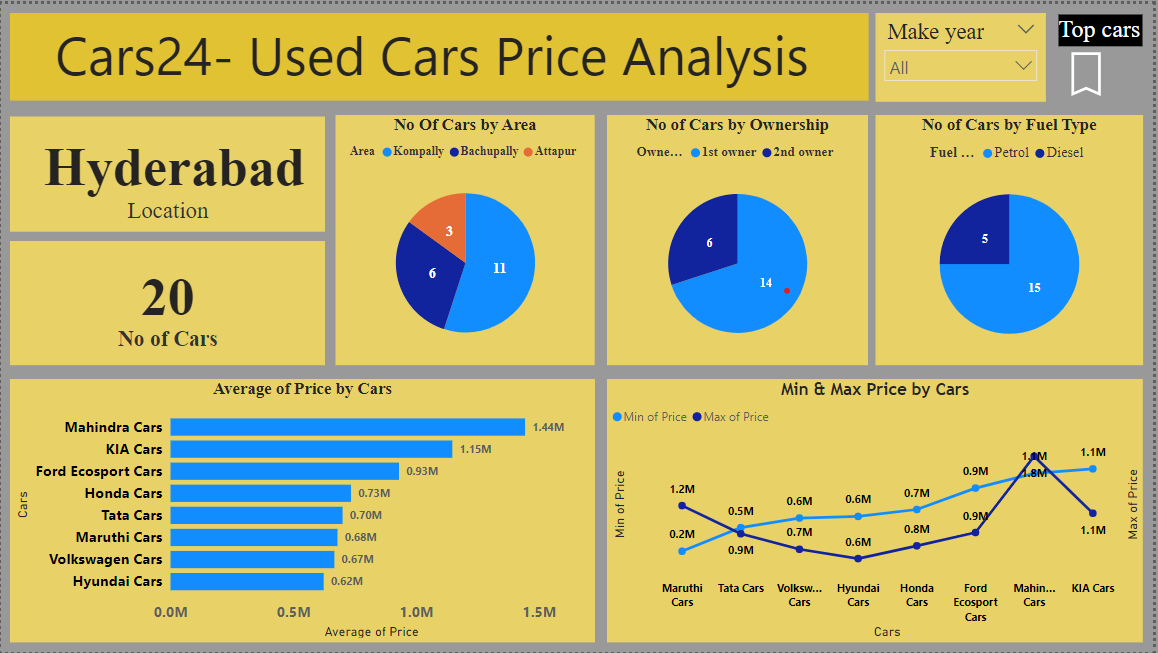

What the dashboard file says about the page in this screenshot:
{"tool":"powerbi","page":{"name":"Report1","canvas":[1280,720],"ordinal":0},"visuals":[{"type":"textbox","box":[9.7,9.7,953.7,97.2],"z":0},{"type":"clusteredBarChart","fields":{"Category":["Table1.Cars"],"Y":["Avg(Table1.Price)"]},"box":[10.3,416.2,650,292.6],"z":1000},{"type":"lineChart","title":"Min & Max Price by Cars ","fields":{"Category":["Table1.Cars"],"Y":["Min(Table1.Price)1"],"Y2":["Max(Table1.Price)"]},"box":[673.5,416.2,595.6,292.6],"z":2000},{"type":"pieChart","title":"No Of Cars by Area","fields":{"Category":["Table1.Area"],"Y":["CountNonNull(Table1.Cars)"]},"box":[372.1,123.5,288.2,277.9],"z":3000},{"type":"pieChart","title":"No of Cars by Ownership","fields":{"Category":["Table1.Ownership"],"Y":["CountNonNull(Table1.Cars)"]},"box":[673.5,123.5,289.7,277.9],"z":4000},{"type":"pieChart","title":"No of Cars by Fuel Type","fields":{"Category":["Table1.Fuel Type"],"Y":["CountNonNull(Table1.Cars)"]},"box":[972.1,123.5,297.1,277.9],"z":5000},{"type":"card","fields":{"Values":["CountNonNull(Table1.Cars)"]},"box":[10.3,263.2,350,138.2],"z":6000},{"type":"card","fields":{"Values":["Min(Table1.Location)"]},"box":[10.3,125,350,127.9],"z":7000},{"type":"slicer","fields":{"Values":["Table1.Make year"]},"box":[971.5,9.7,189.4,98.8],"z":8000},{"type":"actionButton","title":"Top cars","box":[1175,11.7,93.3,96.7],"z":9000}]}

Visuals, with their boxes in screenshot pixels (x1, y1, x2, y2), scaled from the page's 1280x720 canvas onto the 1158x653 screenshot:
textbox: (9,9,872,97)
clusteredBarChart - Table1.Cars x Avg(Table1.Price): (9,377,597,643)
"Min & Max Price by Cars " lineChart: (609,377,1148,643)
"No Of Cars by Area" pieChart: (337,112,597,364)
"No of Cars by Ownership" pieChart: (609,112,871,364)
"No of Cars by Fuel Type" pieChart: (879,112,1148,364)
card - CountNonNull(Table1.Cars): (9,239,326,364)
card - Min(Table1.Location): (9,113,326,229)
slicer - Table1.Make year: (879,9,1050,98)
"Top cars" actionButton: (1063,11,1147,98)
